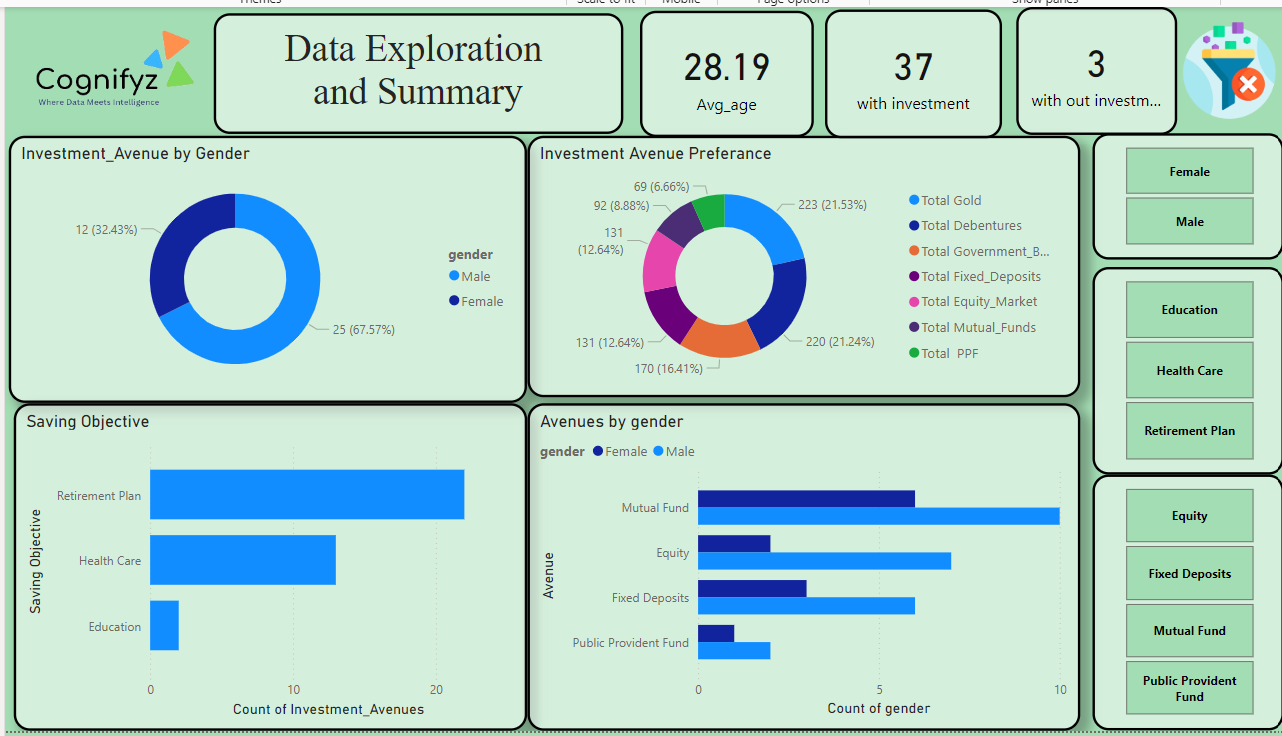

This screenshot's page, from the dashboard's own definition file:
{"tool":"powerbi","page":{"name":"Task 1","canvas":[1280,720],"ordinal":0},"visuals":[{"type":"donutChart","title":"Investment_Avenue by Gender","fields":{"Category":["Data_set 2.gender"],"Y":["CountNonNull(Data_set 2.Avenue)"],"Series":["Data_set 2.Investment_Avenues"]},"box":[3.5,128.3,515.5,265.9],"z":0},{"type":"clusteredBarChart","title":"Saving Objective","fields":{"Category":["Data_set 2.What are your savings objectives?"],"Y":["CountNonNull(Data_set 2.Investment_Avenues)"]},"box":[8.2,394.2,510.8,325.4],"z":1000},{"type":"donutChart","title":"Investment Avenue Preferance","fields":{"Y":["Sum(Data_set 2.Gold)","Sum(Data_set 2.Debentures)","Sum(Data_set 2.Government_Bonds)","Sum(Data_set 2.Fixed_Deposits)","Sum(Data_set 2.Equity_Market)","Sum(Data_set 2.Mutual_Funds)","Sum(Data_set 2.PPF)"]},"box":[519,128.3,549.3,260.1],"z":2000},{"type":"card","fields":{"Values":["Data_set 2.No investment"]},"box":[815.2,2.3,176.1,128.3],"z":3000},{"type":"card","fields":{"Values":["Data_set 2.Count of Investment_Avenues for No"]},"box":[1005.3,0,159.8,127.1],"z":4000},{"type":"card","fields":{"Values":["measures (2).Avg_age"]},"box":[630.9,3.5,172.6,125.9],"z":5000},{"type":"clusteredBarChart","title":"Avenues by gender","fields":{"Category":["Data_set 2.Avenue"],"Series":["Data_set 2.gender"],"Y":["CountNonNull(Data_set 2.gender)"]},"box":[519,394.2,549.3,325.4],"z":6000},{"type":"slicer","title":"Gender","fields":{"Values":["Data_set 2.gender"]},"box":[1081.1,125.9,191.3,125.9],"z":7000},{"type":"slicer","title":"Avenue","fields":{"Values":["Data_set 2.Avenue"]},"box":[1081.1,465.3,191.3,254.2],"z":8000},{"type":"slicer","title":"Saving Objective","fields":{"Values":["Data_set 2.What are your savings objectives?"]},"box":[1081.1,258.9,191.3,206.4],"z":9000},{"type":"image","box":[1165,0,106.1,125.9],"z":10000},{"type":"textbox","box":[207.6,5.8,407,120.1],"z":11000},{"type":"image","box":[0,0,207.6,125.9],"z":12000}]}

Visuals, with their boxes on the page's 1280x720 design canvas (x1, y1, x2, y2). These are canvas units, not pixel positions in the 1282x736 screenshot, which may show the page scaled, cropped or inside an application window:
"Investment_Avenue by Gender" donutChart: l=4, t=128, r=519, b=394
"Saving Objective" clusteredBarChart: l=8, t=394, r=519, b=720
"Investment Avenue Preferance" donutChart: l=519, t=128, r=1068, b=388
card - Data_set 2.No investment: l=815, t=2, r=991, b=131
card - Data_set 2.Count of Investment_Avenues for No: l=1005, t=0, r=1165, b=127
card - measures (2).Avg_age: l=631, t=4, r=804, b=129
"Avenues by gender" clusteredBarChart: l=519, t=394, r=1068, b=720
"Gender" slicer: l=1081, t=126, r=1272, b=252
"Avenue" slicer: l=1081, t=465, r=1272, b=720
"Saving Objective" slicer: l=1081, t=259, r=1272, b=465
image: l=1165, t=0, r=1271, b=126
textbox: l=208, t=6, r=615, b=126
image: l=0, t=0, r=208, b=126
